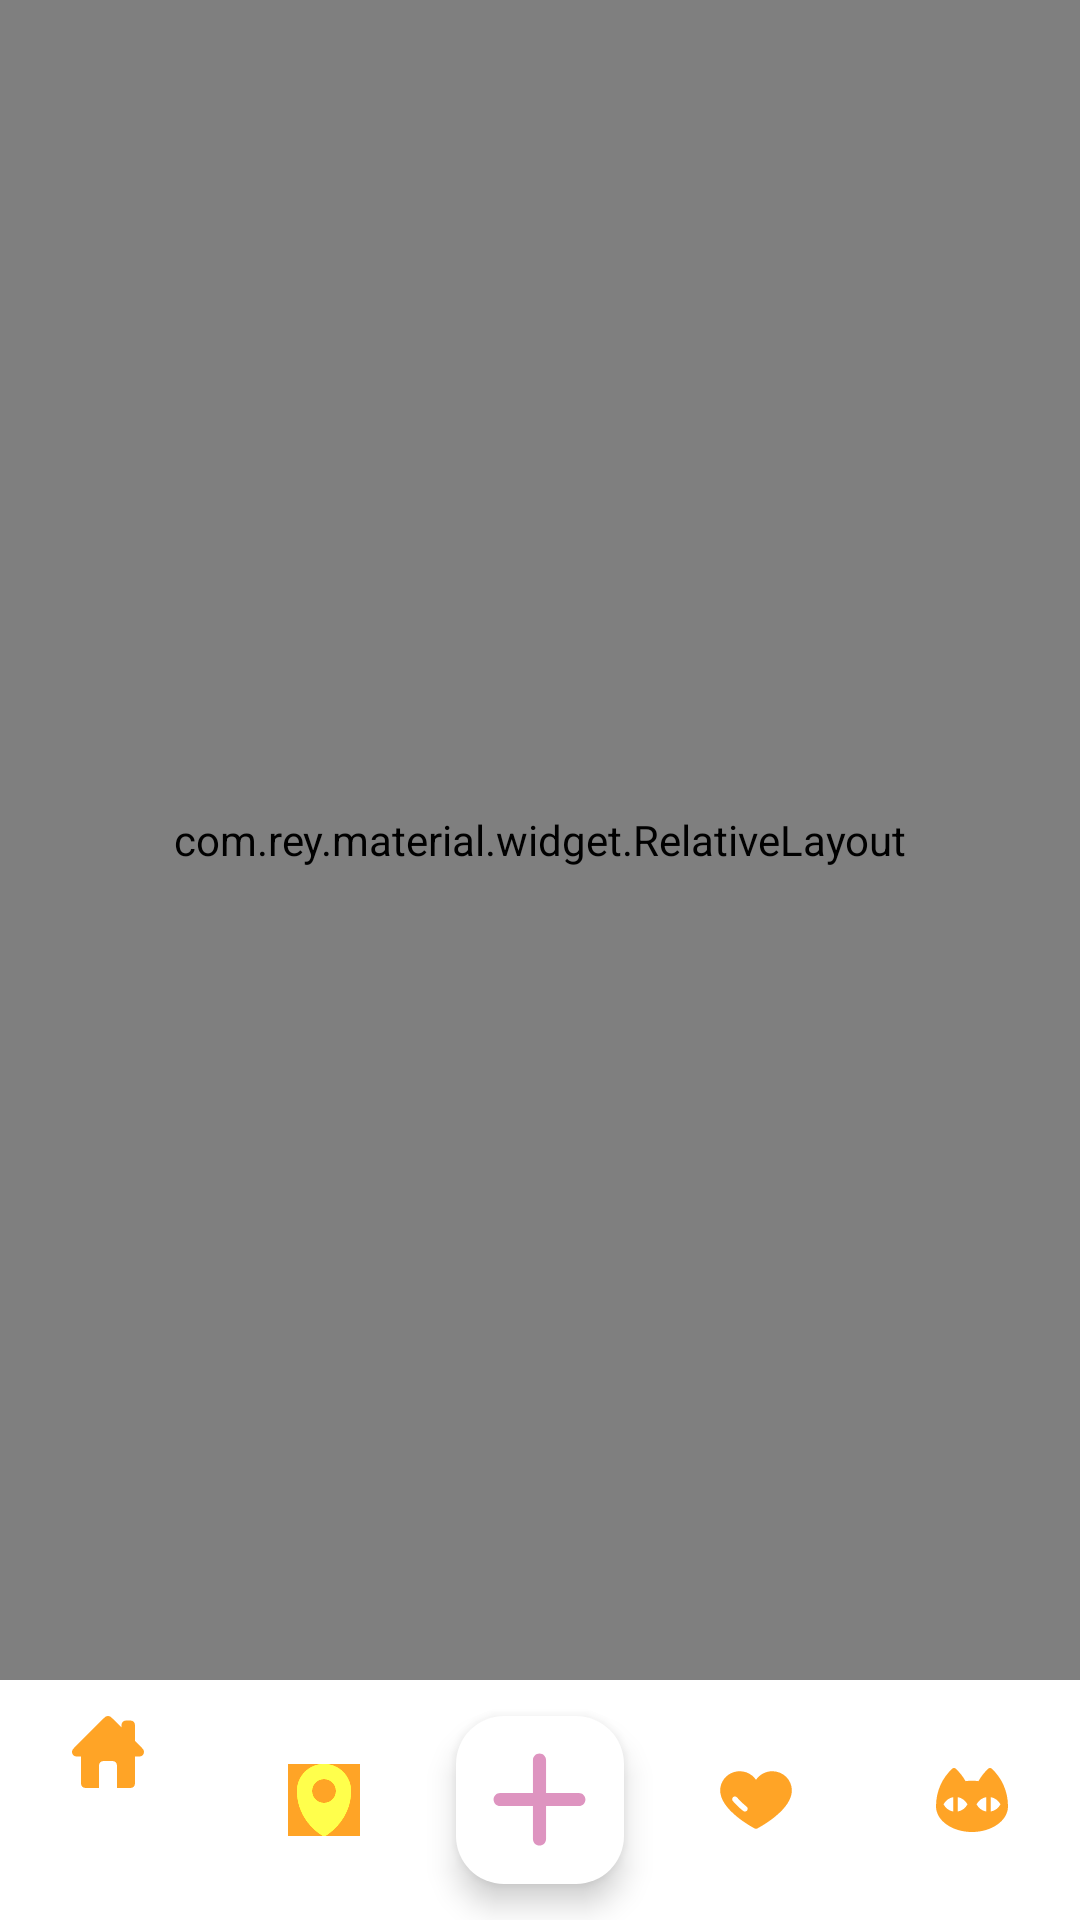

Icons on this 1080x1920 Android screen, each with the point to tap as [x,y]:
add without circle: [540,1802]
